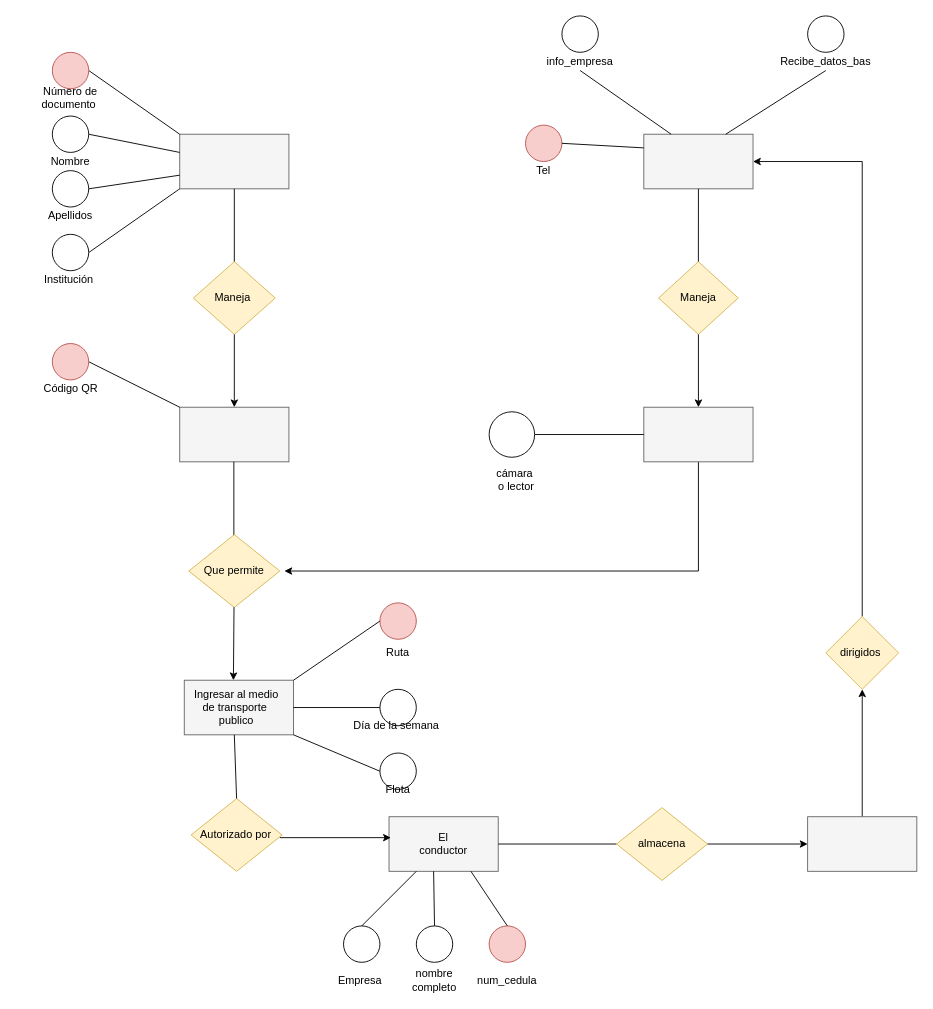
Some shapes in this 933 by 1009 pixel diagram are drawn without their labels. Each missing label, with the box of its shape:
Datos básicos del estudiante: (807, 816, 917, 871)
Empresa de buses: (643, 133, 753, 189)
Estudiante: (179, 133, 289, 189)
Lector del tiquete: (643, 406, 753, 462)
Tiquete de transporte: (179, 406, 289, 462)
